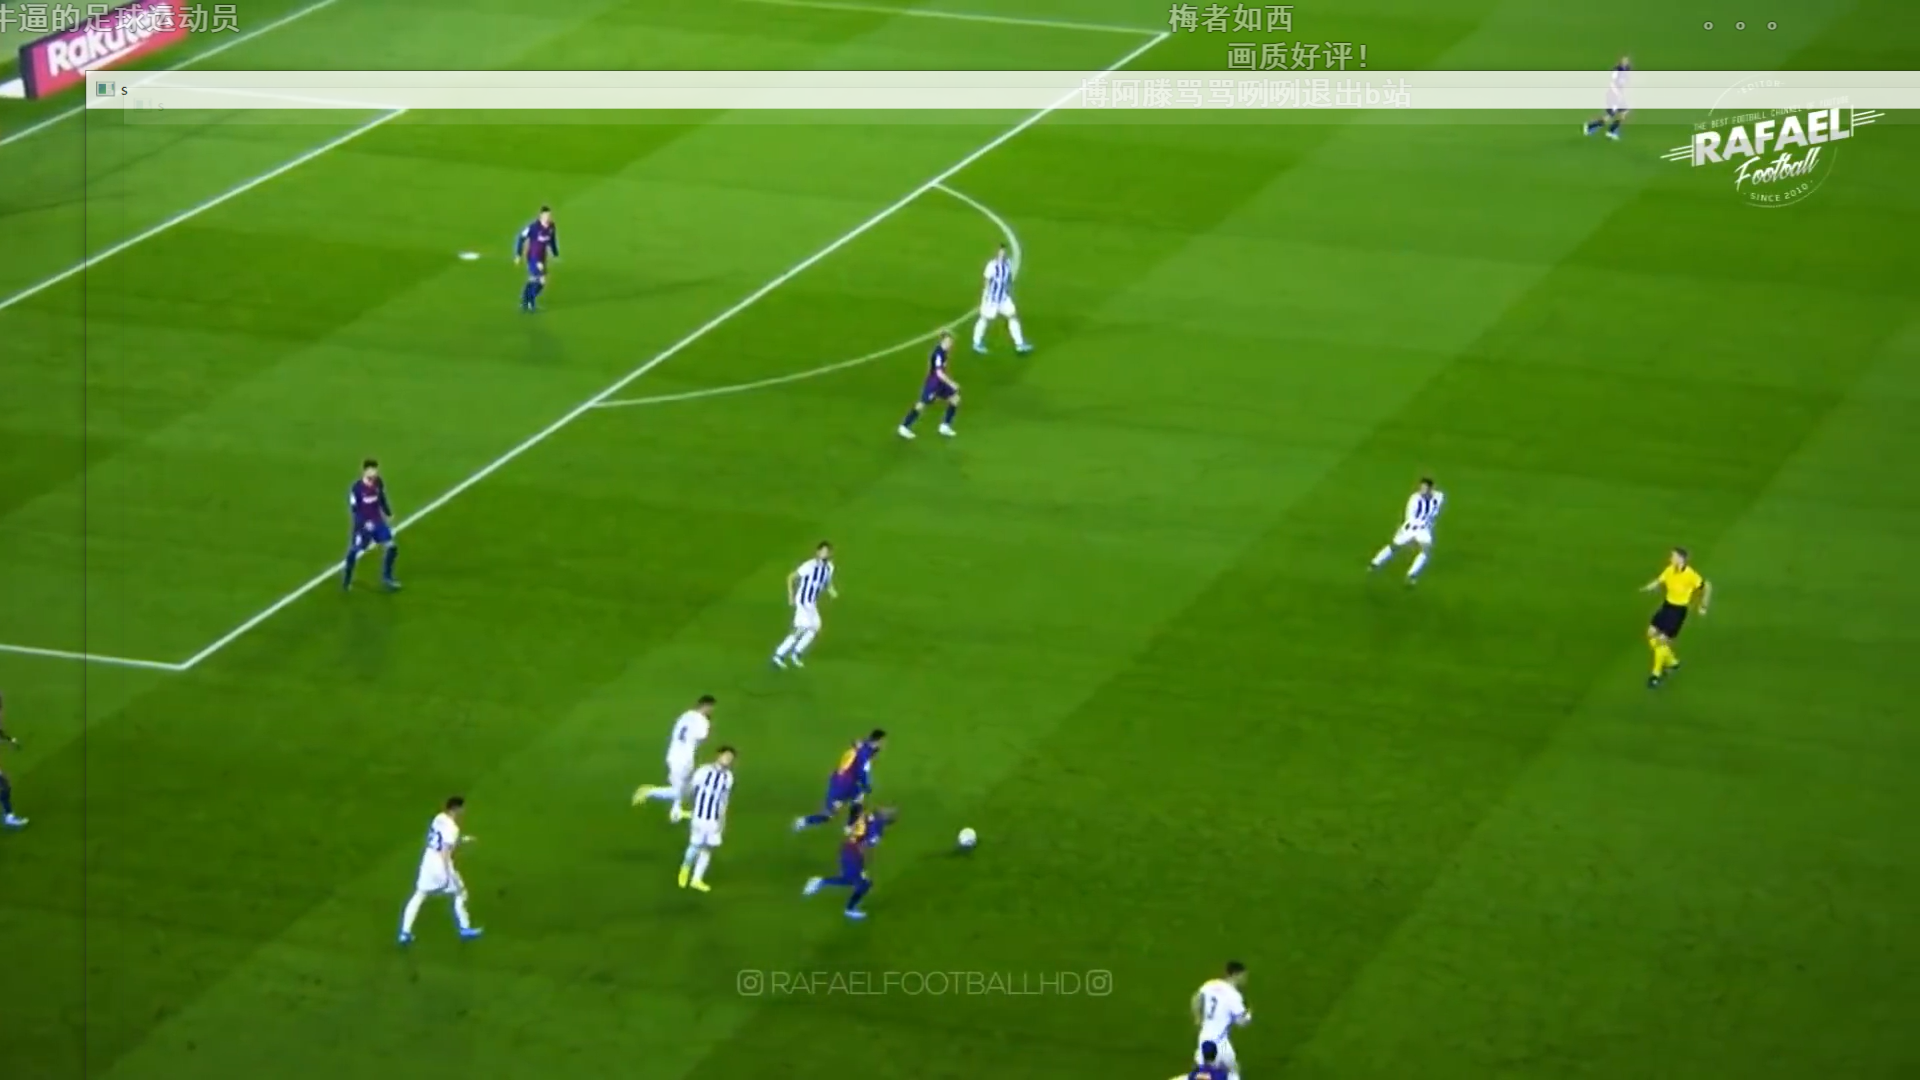ft: (948, 822, 982, 851)
